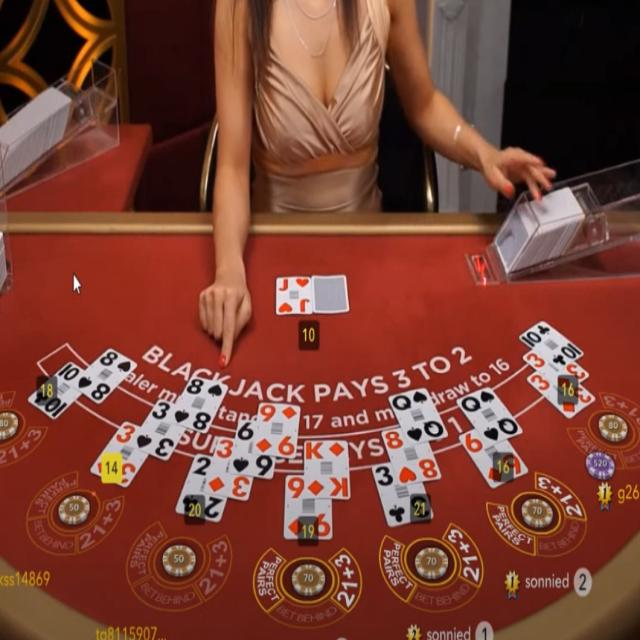Card-10: (28, 360, 85, 422), (519, 319, 584, 370)
Card-2: (176, 453, 227, 522)
Card-3: (372, 461, 434, 527), (90, 420, 148, 488), (130, 397, 186, 462), (527, 371, 595, 420), (205, 436, 253, 501), (523, 349, 589, 390)
Card-6: (458, 428, 528, 488), (230, 420, 276, 478)
Card-8: (73, 347, 137, 405), (382, 426, 441, 486), (167, 375, 228, 433)
Card-9: (284, 475, 332, 540), (254, 402, 300, 458)
Card-J: (276, 275, 313, 315)
Card-K: (305, 440, 350, 498)
Card-Q: (456, 386, 523, 446), (389, 387, 448, 446)
